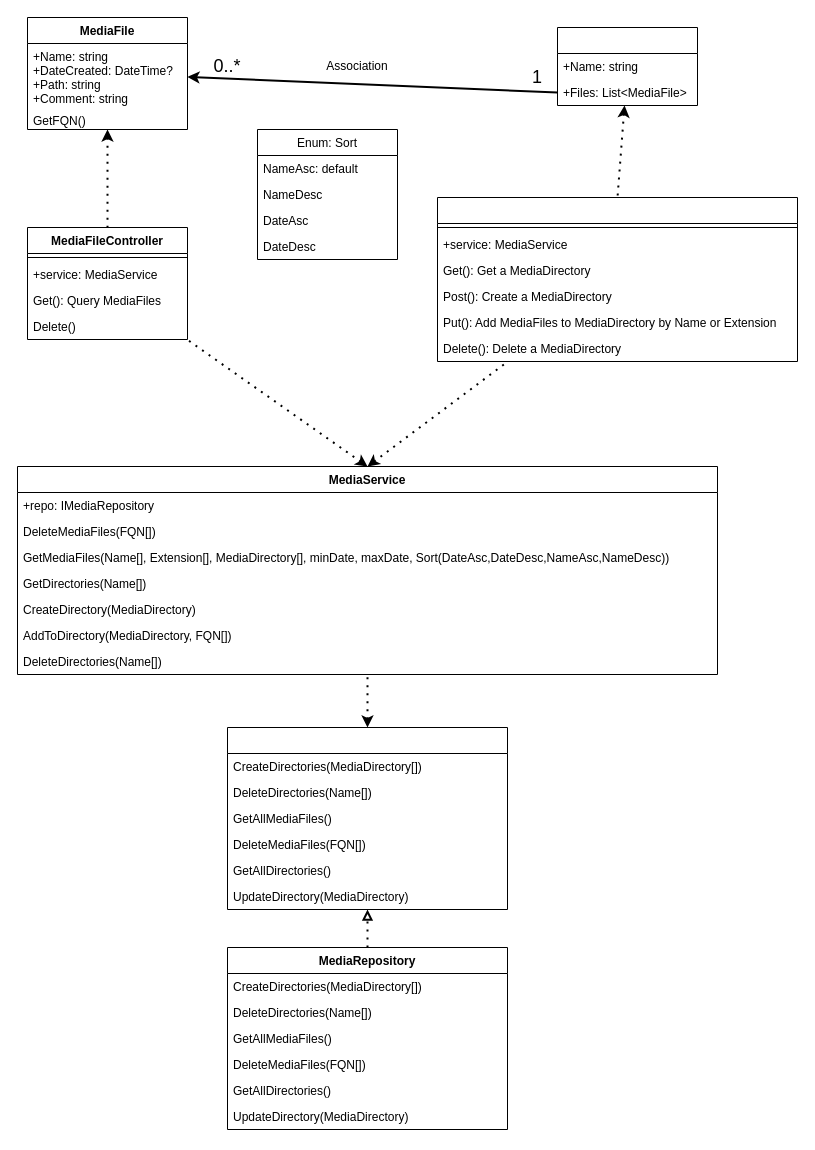
The diagram is 815 pixels wide and 1150 high, and some of its shapes have lost their labels. The shapes that lost their labels are listed below. From the top down, each one's box as (x1, y1, x2, y2) in pixels, then its label:
(556, 26, 698, 106): MediaDirectory
(436, 196, 798, 362): MediaDirectoryController
(226, 726, 508, 910): IMediaRepository
